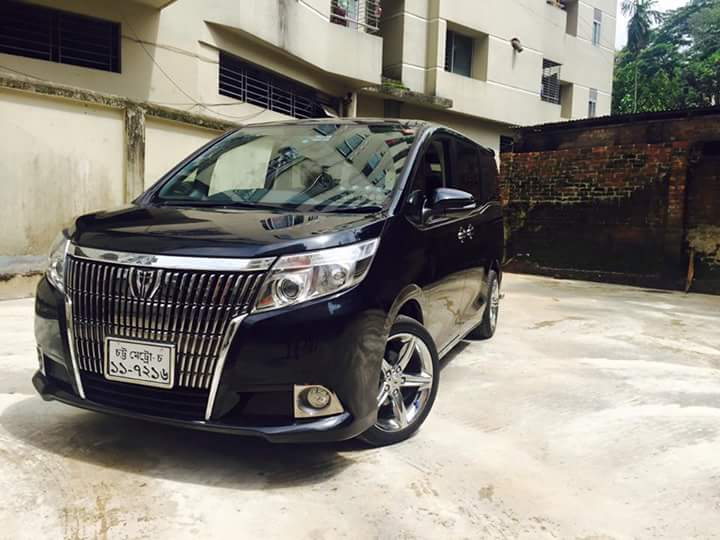registration_plate: (107, 340, 170, 384)
